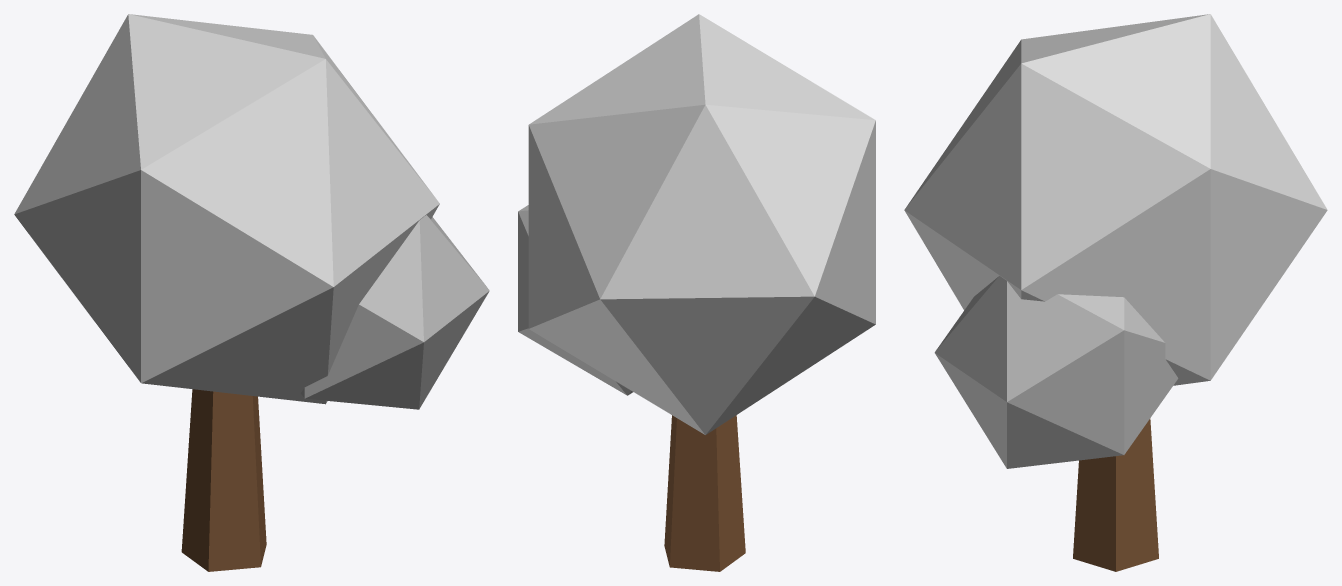
The model's file is prop_tree_round.glb.
3 views of the same model, side by side, from view 1: azimuth 30°, elevation 25°; view 2: azimuth 150°, elevation 25°; view 3: azimuth 270°, elevation 25° (orthographic). The views are drawn at different scales.
Visible parts, largest first — view 1: canopy, trunk; view 2: canopy, trunk; view 3: canopy, trunk.
Part boxes in pixels (<box>): canopy: <box>14,14,489,409</box>; trunk: <box>181,389,266,571</box>; canopy: <box>518,14,875,434</box>; trunk: <box>664,415,745,571</box>; canopy: <box>904,14,1327,468</box>; trunk: <box>1073,418,1158,571</box>.
Bounding box in the file's own units: 0.8482 × 1.13 × 0.84.
